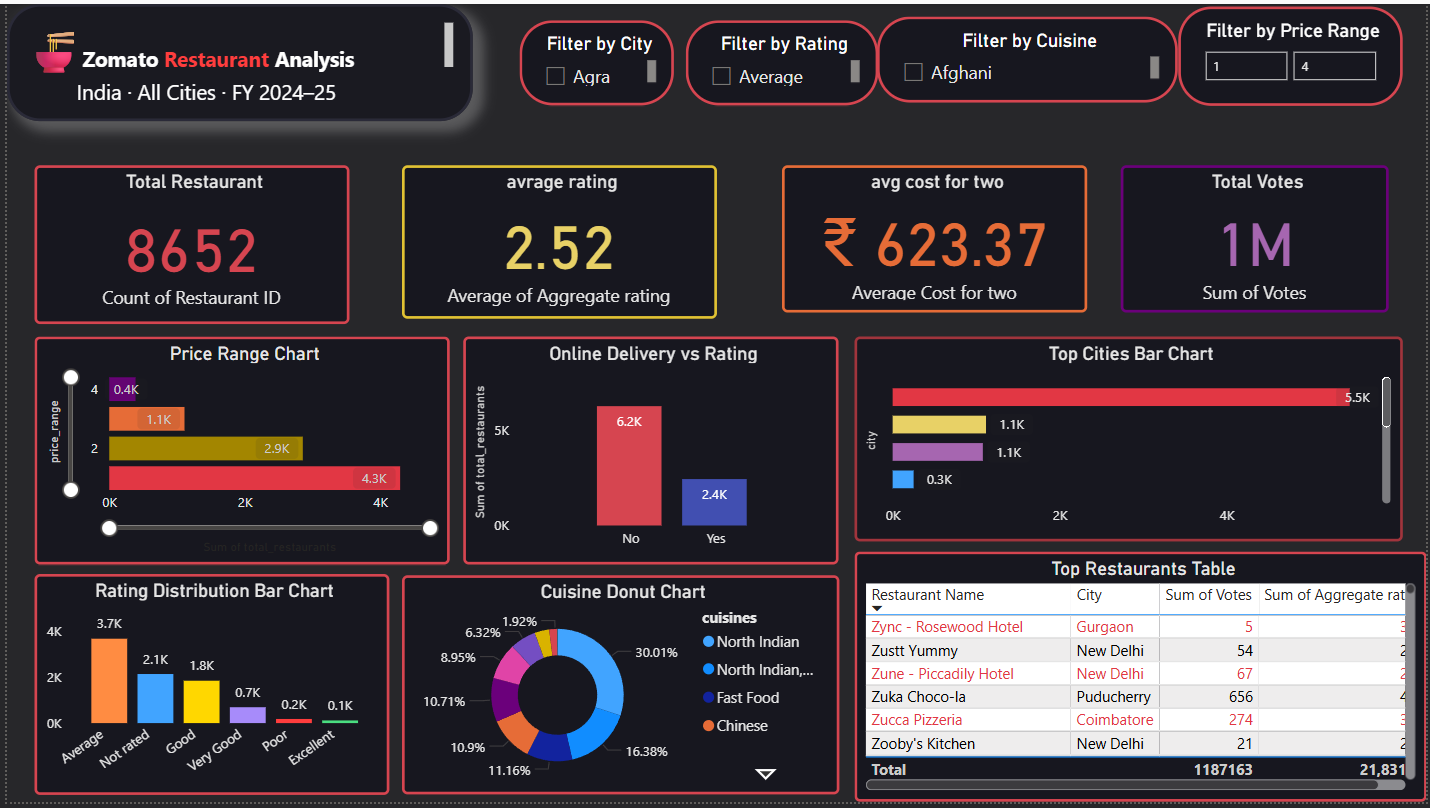

What the dashboard file says about the page in this screenshot:
{"tool":"powerbi","page":{"name":"DASHBOARD","canvas":[1280,720],"ordinal":1},"visuals":[{"type":"slicer","title":"Filter by City","fields":{"Values":["zomato_cleaned.City"]},"box":[461.6,15.1,139.5,76.7],"z":0},{"type":"slicer","title":"Filter by Cuisine","fields":{"Values":["zomato_cleaned.Cuisines"]},"box":[784.9,11.6,270.9,77.9],"z":1000},{"type":"slicer","title":"Filter by Price Range","fields":{"Values":["zomato_cleaned.Price range"]},"box":[1055.8,2.3,202.3,89.5],"z":2000},{"type":"slicer","title":"Filter by Rating","fields":{"Values":["zomato_cleaned.Rating text"]},"box":[611.6,15.1,173.3,76.7],"z":3000},{"type":"card","title":"Total Restaurant","fields":{"Values":["CountNonNull(zomato_cleaned.Restaurant ID)"]},"box":[24.4,145.3,283.7,143],"z":4000},{"type":"card","title":"avrage rating","fields":{"Values":["Avg(zomato_cleaned.Aggregate rating)"]},"box":[355.8,145.3,283.7,138.4],"z":5000},{"type":"card","title":"avg  cost for two","fields":{"Values":["Avg(zomato_cleaned.Average Cost for two)"]},"box":[698.8,145.3,275.6,132.6],"z":6000},{"type":"card","title":"Total Votes","fields":{"Values":["Sum(zomato_cleaned.Votes)"]},"box":[1004.7,145.3,241.9,132.6],"z":7000},{"type":"clusteredBarChart","title":"Top Cities Bar Chart ","fields":{"Y":["Sum(query 1.total_restaurants)"],"Category":["query 1.city"]},"box":[764,300,494.2,184.9],"z":8000},{"type":"donutChart","title":"Cuisine Donut Chart","fields":{"Category":["query2.cuisines"],"Y":["Sum(query2.restaurant_count)"]},"box":[355.8,515.1,394.2,197.7],"z":9000},{"type":"clusteredColumnChart","title":"Rating Distribution Bar Chart","fields":{"Category":["query5.rating_text"],"Y":["Sum(query5.total)"]},"box":[24.4,514,319.8,198.8],"z":10000},{"type":"clusteredColumnChart","title":"Online Delivery vs Rating","fields":{"Category":["query3.has_online_delivery"],"Y":["Sum(query3.total_restaurants)"]},"box":[411.6,300,338.4,205.8],"z":11000},{"type":"clusteredBarChart","title":"Price Range Chart","fields":{"Category":["query4.price_range"],"Y":["Sum(query4.total_restaurants)"]},"box":[24.4,300,374.4,205.8],"z":12000},{"type":"tableEx","title":"Top Restaurants Table","fields":{"Values":["zomato_cleaned.Restaurant Name","zomato_cleaned.City","Sum(zomato_cleaned.Votes)","Sum(zomato_cleaned.Aggregate rating)"]},"box":[764,494.2,516.3,225.6],"z":13000},{"type":"textbox","box":[0,0,419.8,105.8],"z":14000}]}

Visuals, with their boxes in screenshot pixels (x1, y1, x2, y2), scaled from the page's 1280x720 canvas onto the 1430x808 screenshot:
"Filter by City" slicer: BBox(516, 17, 672, 103)
"Filter by Cuisine" slicer: BBox(877, 13, 1180, 100)
"Filter by Price Range" slicer: BBox(1180, 3, 1406, 103)
"Filter by Rating" slicer: BBox(683, 17, 877, 103)
"Total Restaurant" card: BBox(27, 163, 344, 324)
"avrage rating" card: BBox(397, 163, 714, 318)
"avg  cost for two" card: BBox(781, 163, 1089, 312)
"Total Votes" card: BBox(1122, 163, 1393, 312)
"Top Cities Bar Chart " clusteredBarChart: BBox(854, 337, 1406, 544)
"Cuisine Donut Chart" donutChart: BBox(397, 578, 838, 800)
"Rating Distribution Bar Chart" clusteredColumnChart: BBox(27, 577, 385, 800)
"Online Delivery vs Rating" clusteredColumnChart: BBox(460, 337, 838, 568)
"Price Range Chart" clusteredBarChart: BBox(27, 337, 446, 568)
"Top Restaurants Table" tableEx: BBox(854, 555, 1429, 807)
textbox: BBox(0, 0, 469, 119)
